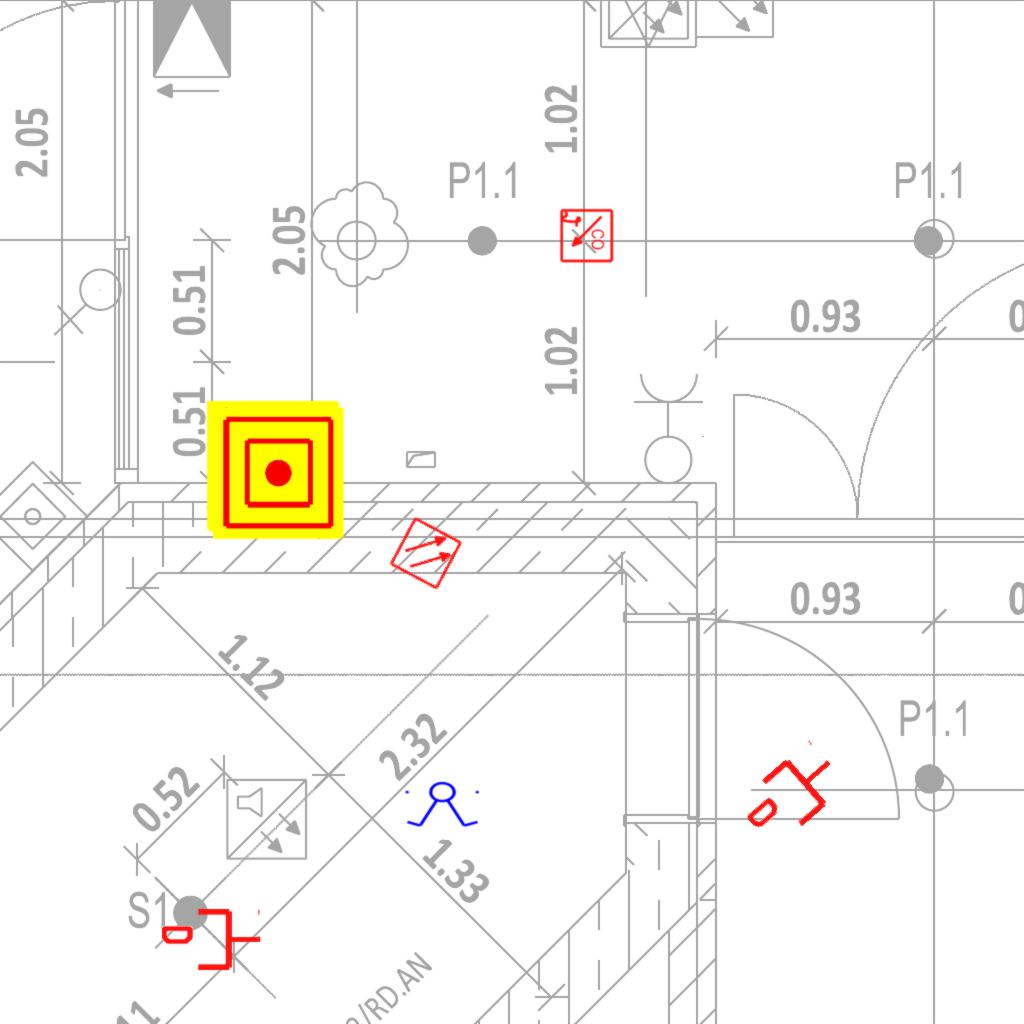Datenanschluss_einfach: (732, 735, 853, 853), (162, 905, 262, 974)
NAM-Nichtautomatischer_Melder: (207, 400, 339, 532), (212, 407, 344, 539)
RMO_Rauchmelder_optischer: (388, 515, 464, 591)
ROA_Rauchmelder_optisch_mit_Signalgeber_(Sockelsirene): (558, 208, 614, 264)
Serienschalter: (401, 781, 485, 829)
